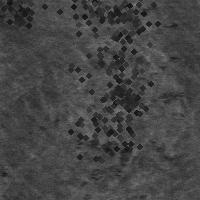rolled-in_scale: (66, 13, 162, 109), (63, 81, 151, 169), (98, 41, 190, 121), (65, 128, 163, 199), (71, 0, 173, 66), (37, 0, 129, 56), (103, 77, 151, 125), (0, 0, 43, 37)
